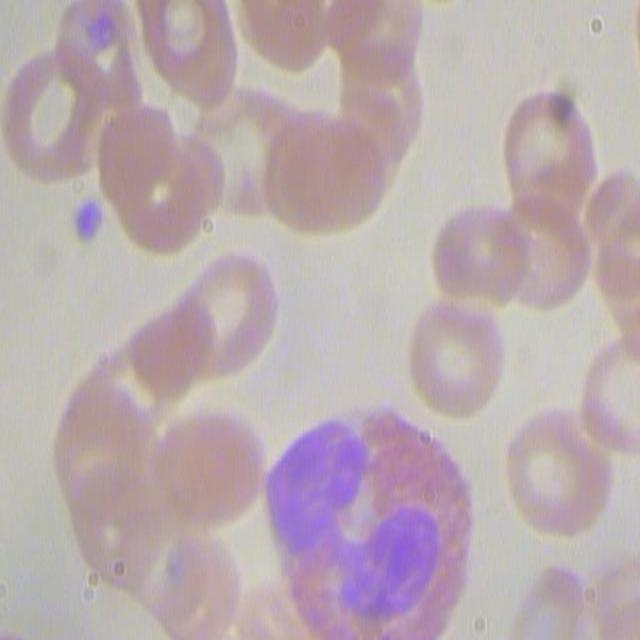RBC: (78, 0, 232, 140), (244, 100, 394, 242), (147, 379, 270, 535), (245, 8, 422, 110), (98, 106, 214, 258), (100, 547, 282, 640), (441, 205, 601, 310), (498, 410, 607, 542), (176, 242, 280, 374), (502, 86, 600, 226), (408, 296, 504, 436), (1, 46, 99, 183), (61, 362, 136, 532), (122, 296, 223, 418), (584, 161, 640, 322), (132, 0, 230, 85), (579, 325, 640, 456), (52, 0, 131, 89), (547, 565, 640, 640)
WBC: (294, 421, 456, 635)
platelets: (70, 192, 108, 250)
